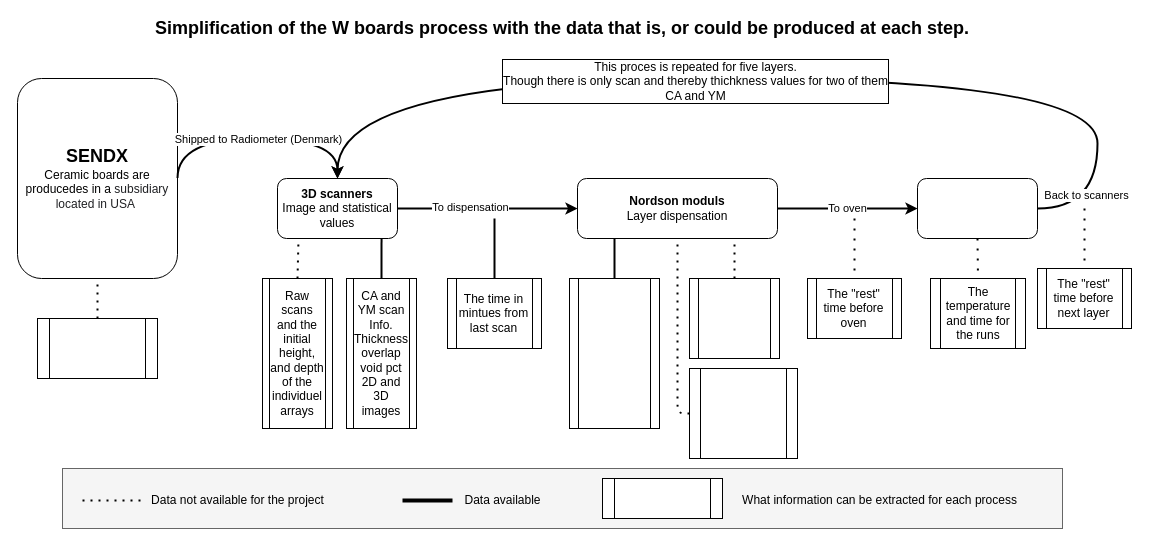
Image size: 1149x546. Some labels were removed from this diagram. Here are the shapes that lost their labels. From the top down, the box of each, then its label:
(916, 178, 1038, 238): Oven Layer hardning
(688, 278, 780, 358): The robot cordinates and inital configuration
(36, 318, 158, 378): Board production and error types doing such
(568, 278, 660, 428): The modul humidity, temperature and time for dispensation of individuel boards
(688, 368, 798, 458): The solution paramereters: Mixture, Lifespan, Last use, etc.
